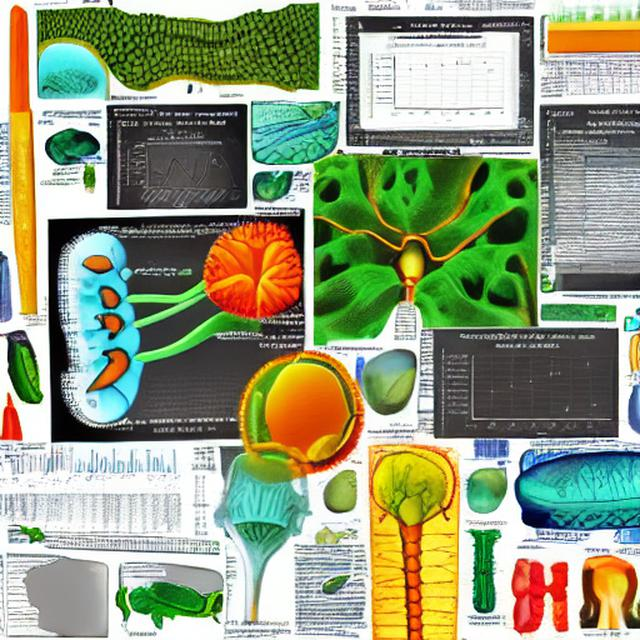Graph: (436, 331, 619, 438), (366, 41, 508, 124), (124, 136, 232, 209), (64, 442, 140, 487)
